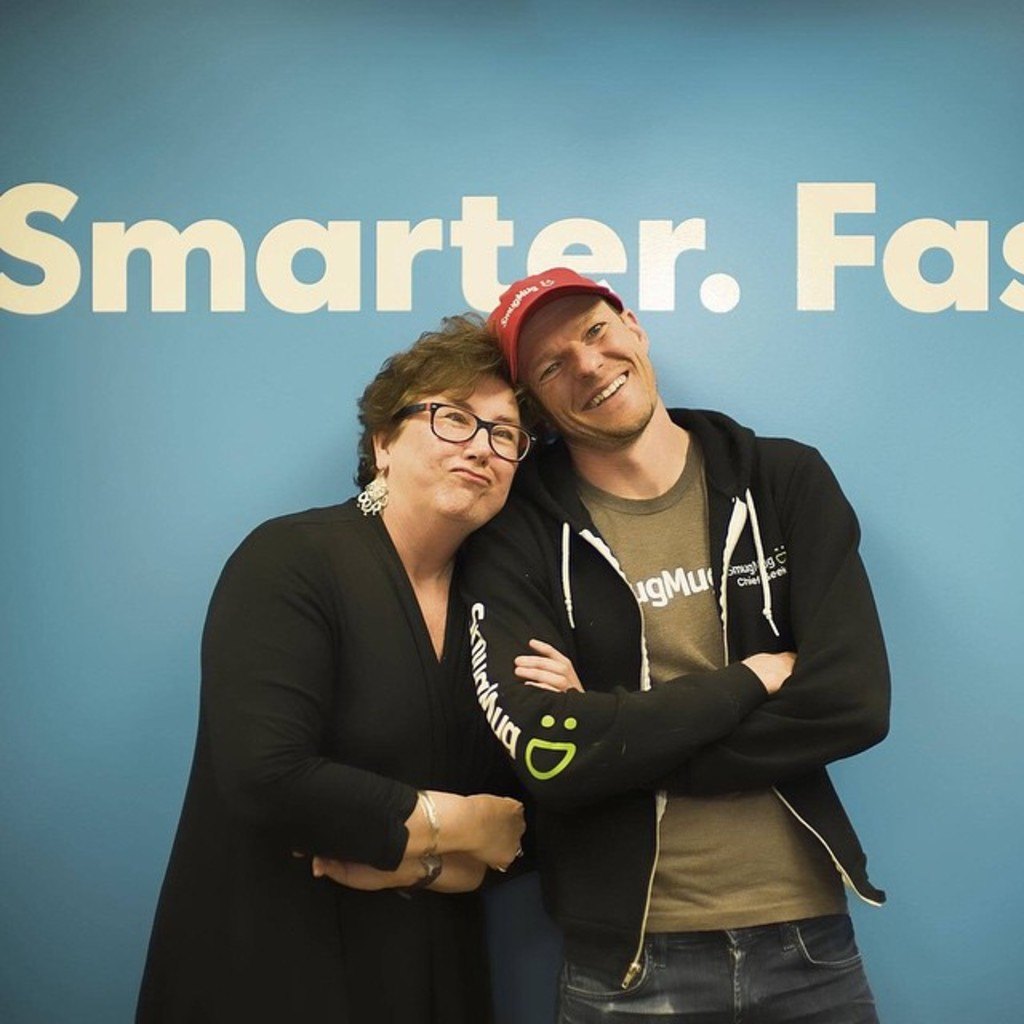Human-face: (523, 286, 658, 442), (395, 376, 517, 526)
